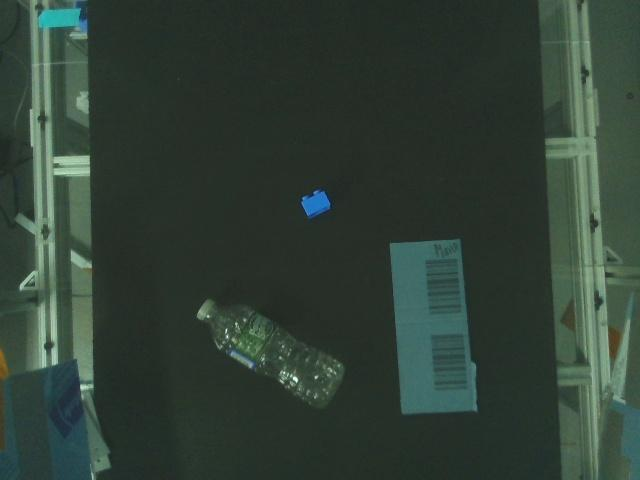cardboard: (390, 238, 479, 414)
plastic: (197, 298, 348, 409), (300, 189, 332, 219)
